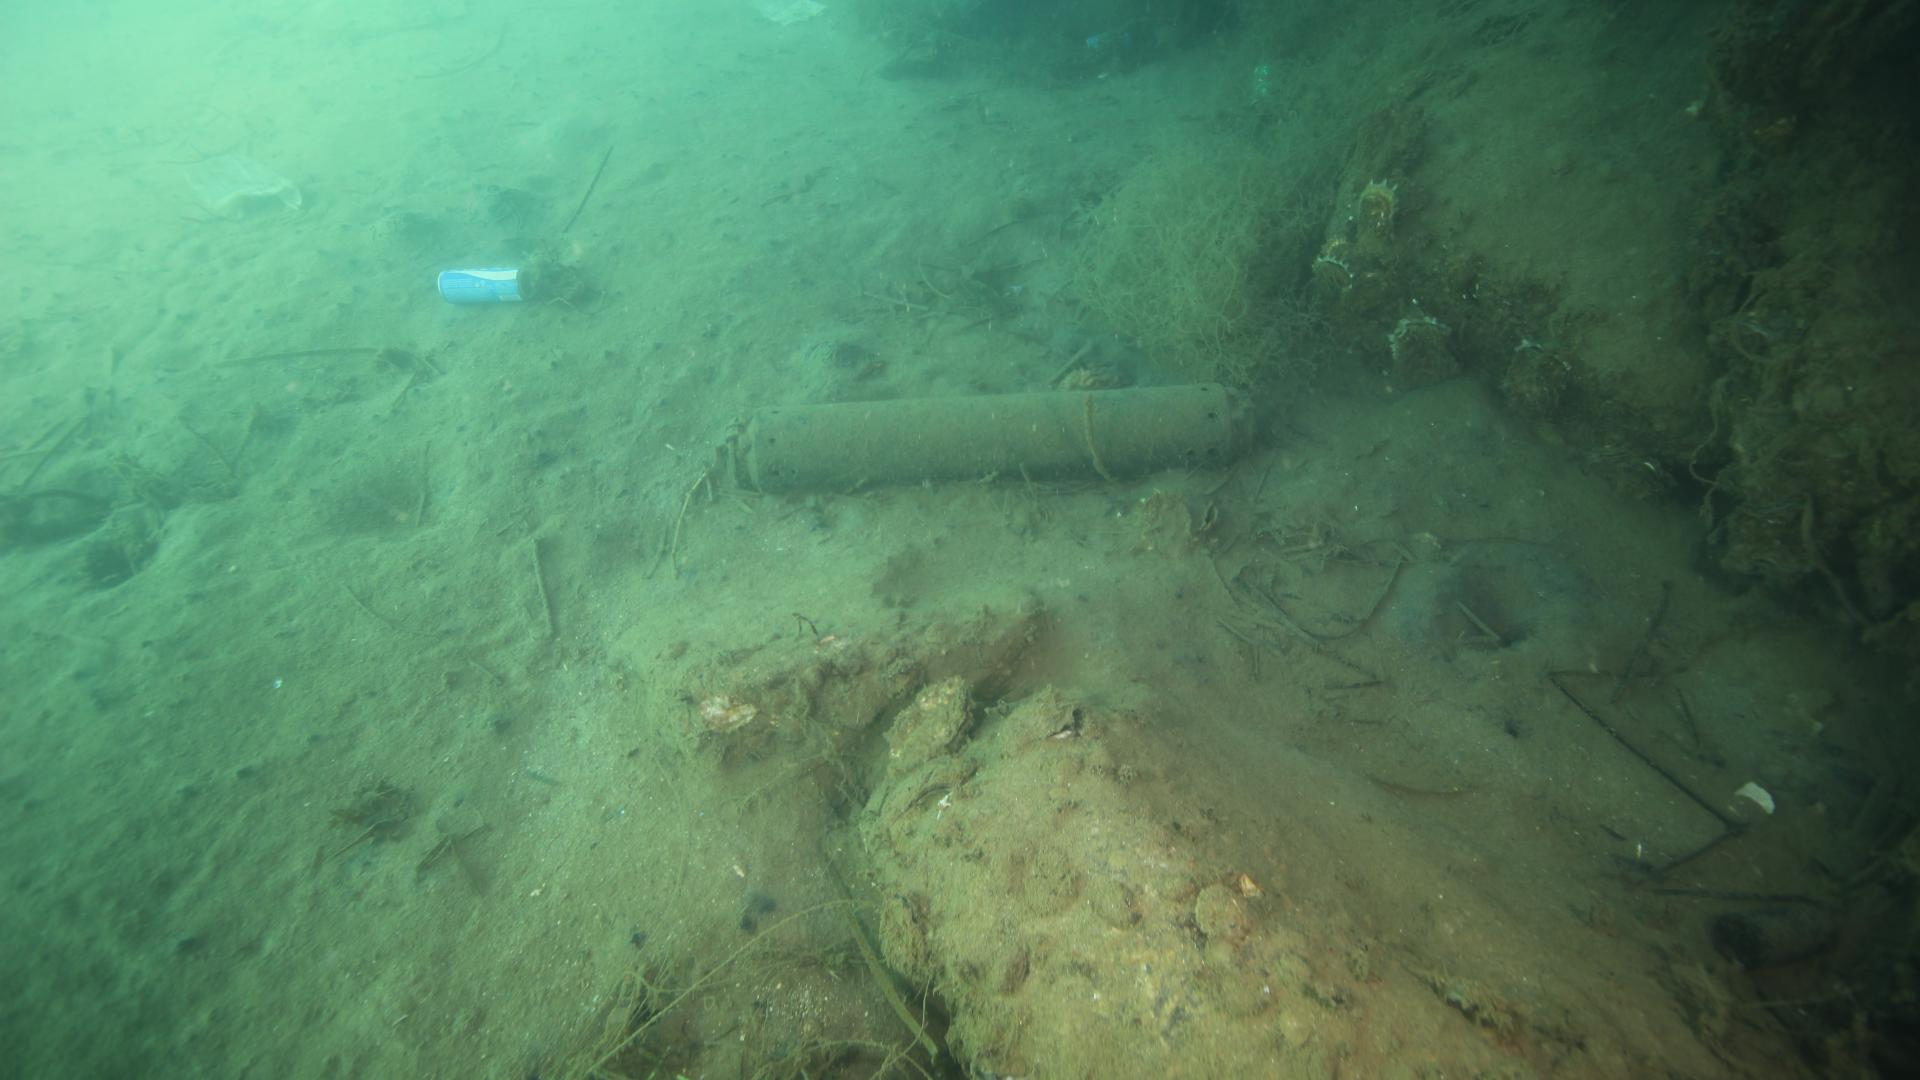eel fish trap: (715, 378, 1254, 493)
